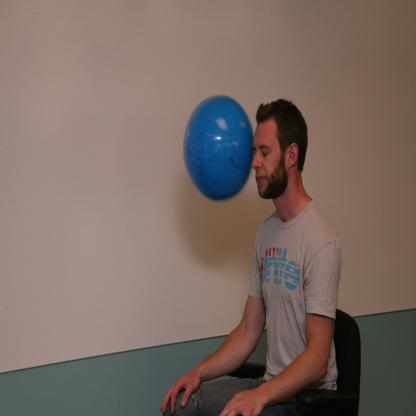Ball: (181, 95, 255, 200)
